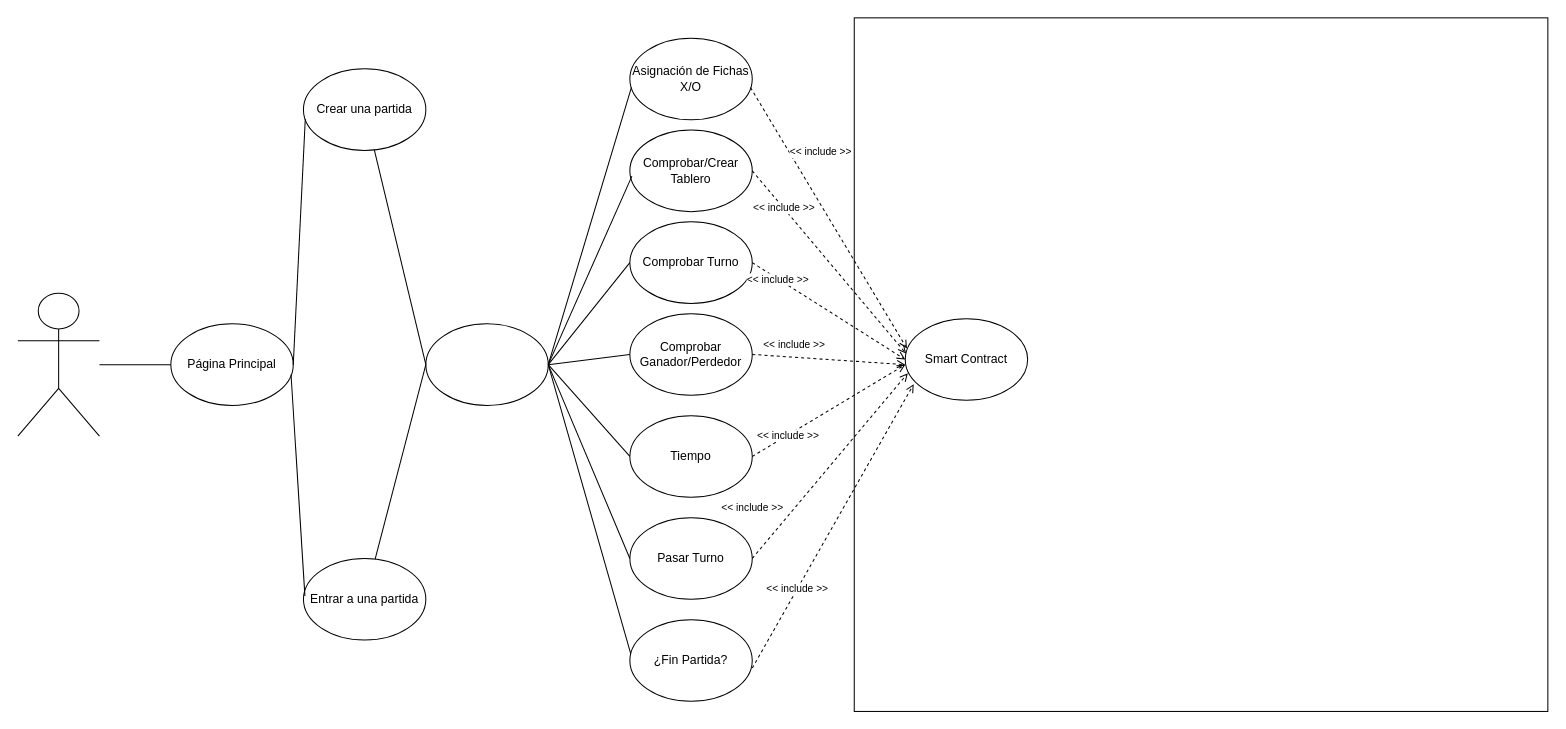
Some shapes in this 1566 by 729 pixel diagram are drawn without their labels. The shapes that lost their labels are listed below. From the top down, each one's box as (x1, y1, x2, y2) in pixels, then its label:
(17, 292, 99, 436): Usuario
(425, 323, 548, 405): Iniciar Partida
(853, 17, 1548, 711): Smart Contract (Backend)
